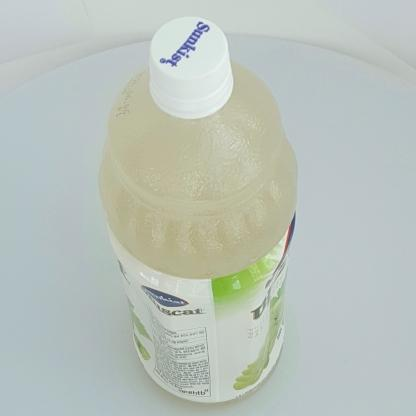-------1-5L: (98, 16, 299, 408)
